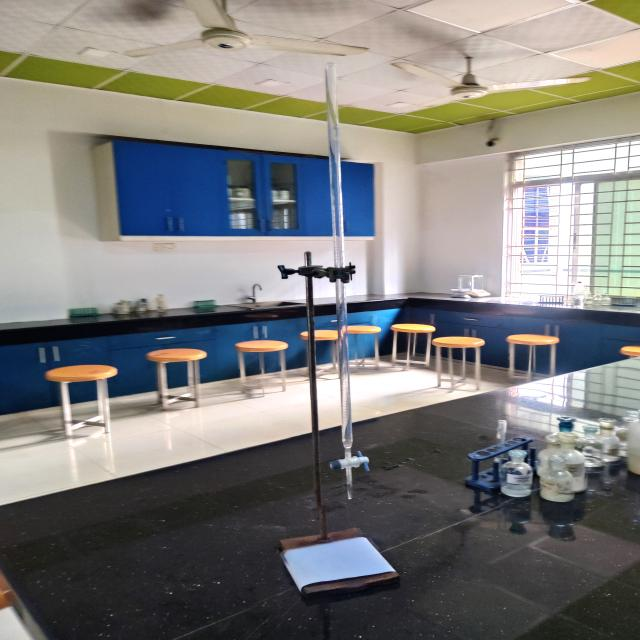Burette_Stands: (203, 238, 446, 624)
